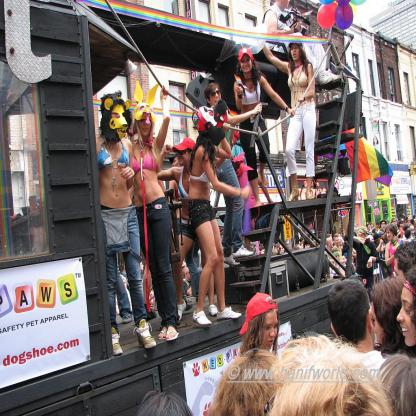face: (397, 284, 416, 348), (371, 296, 388, 345), (111, 102, 129, 142), (261, 312, 279, 350), (395, 257, 409, 296), (139, 113, 153, 139), (209, 89, 223, 110), (178, 148, 191, 167), (241, 54, 253, 74), (172, 156, 184, 174), (292, 46, 302, 61), (188, 270, 195, 282), (139, 259, 145, 272), (335, 254, 341, 266), (279, 245, 285, 256), (387, 230, 393, 241), (283, 1, 291, 8), (305, 244, 310, 255), (122, 280, 128, 289), (360, 232, 365, 242), (261, 249, 266, 257), (330, 240, 335, 248), (335, 237, 340, 245), (301, 247, 305, 257), (393, 220, 398, 227), (343, 232, 347, 240), (339, 238, 343, 246), (382, 223, 387, 229), (287, 244, 291, 251), (369, 225, 372, 231), (378, 238, 381, 243), (408, 218, 411, 223), (372, 224, 374, 231), (402, 223, 405, 227), (383, 235, 385, 239), (414, 220, 416, 224), (404, 215, 406, 218)
